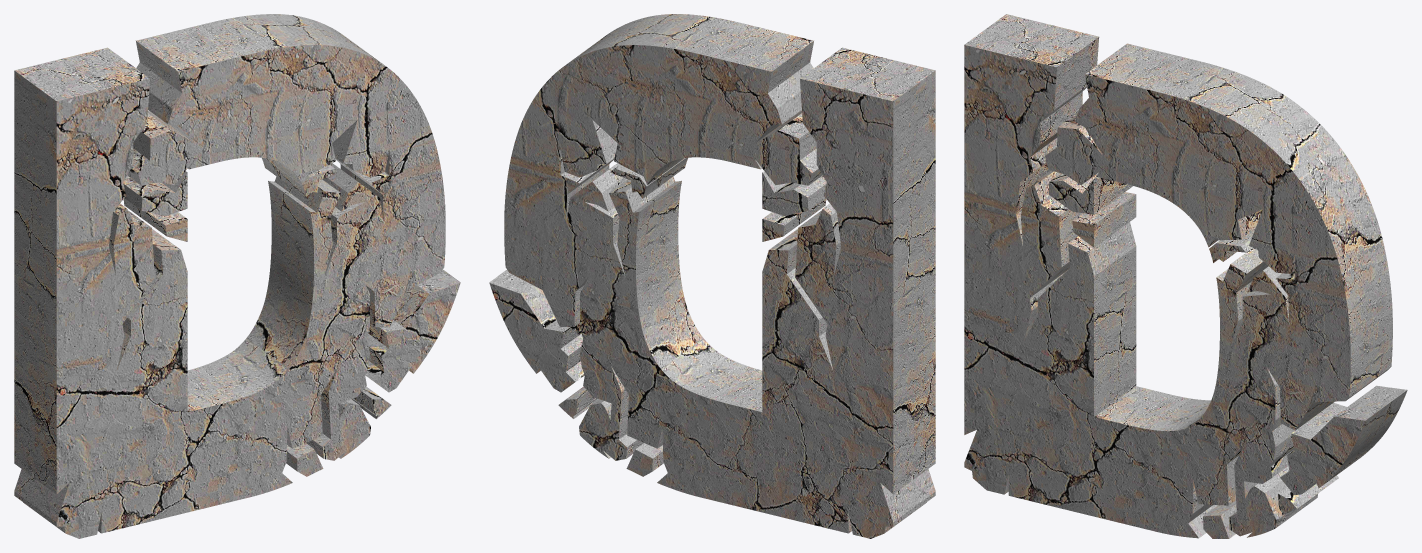
The picture shows the model from 3 angles, left to right: view 1: azimuth 30°, elevation 25°; view 2: azimuth 150°, elevation 25°; view 3: azimuth 330°, elevation 25°; orthographic projection.
Parts seen in each view (by area): view 1: D; view 2: D; view 3: D.
Boxes of the visible parts, x1,y1,x2,y2 form: D: (14,14,460,538); D: (489,14,935,538); D: (964,14,1407,538).
Bounding box in the file's own units: 82.44 × 86.36 × 15.
1 material, 1 textured.
